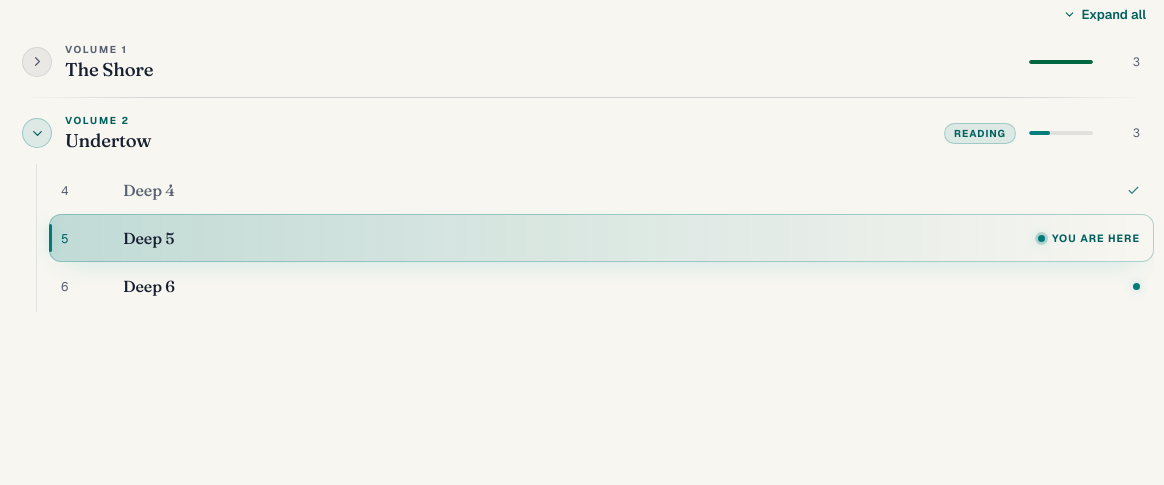
Test: VolumeTOC › opens the current volume, marks your place and read state, and toggles others
Check: the text "You are here" is shown, box [1052,231,1140,245]
Check: the picture named "Read" is shown, box [1127,184,1140,196]
Click the button "Volume 1 The Shore 3" at coordinates (96, 50), box [12,31,1154,93]
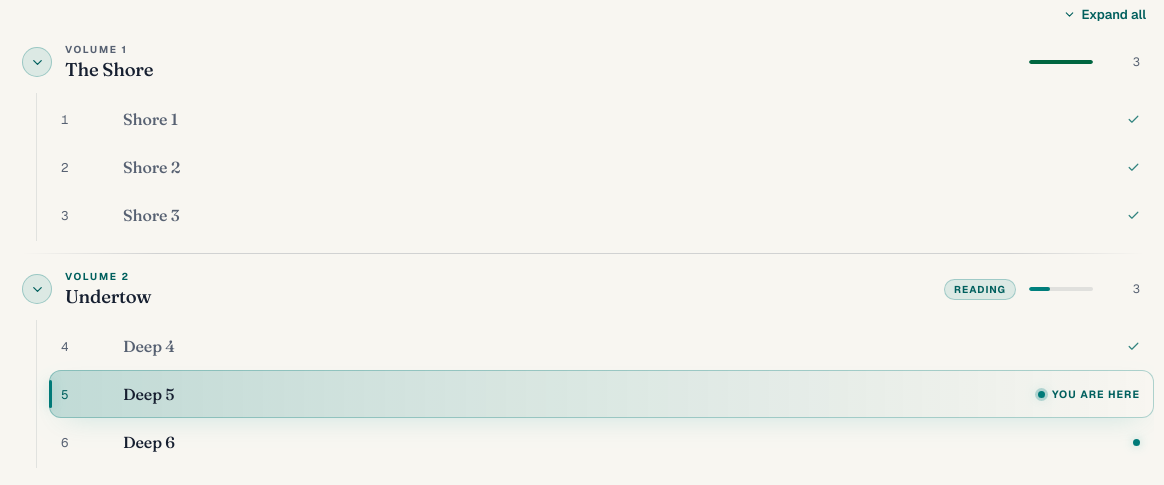
Check: the button "Volume 1 The Shore 3" is expanded
Check: the button "1 Shore 1" is shown, box [49,95,1154,143]
Click the button "Volume 1 The Shore 3" at coordinates (96, 50), box [12,31,1154,93]
Wait 600 ms
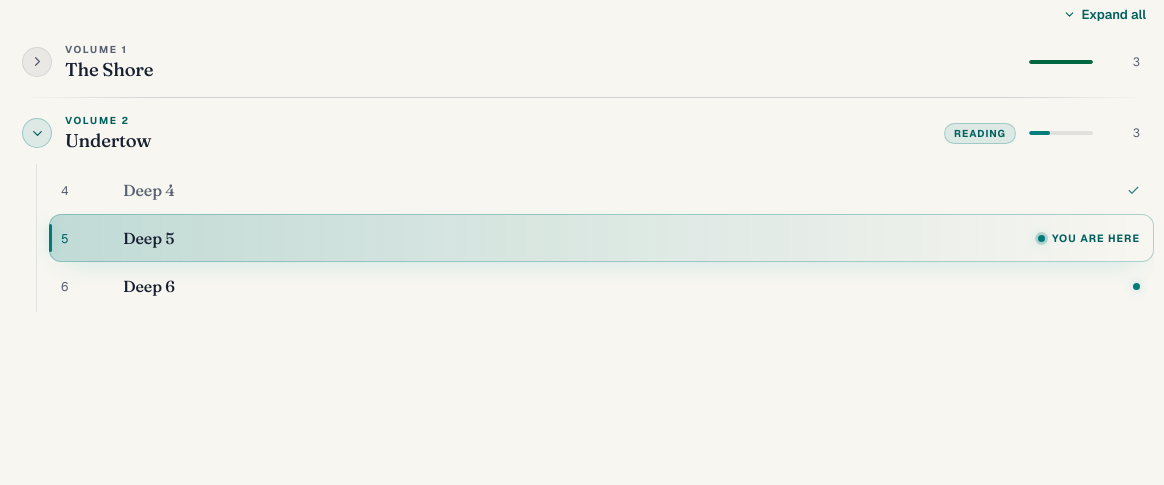
Check: the button "Volume 1 The Shore 3" is collapsed, box [12,31,1154,93]
Check: the button "Shore 1" is gone
